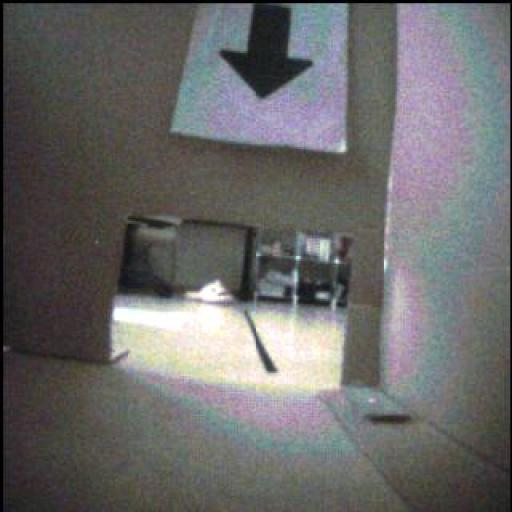arrow: (222, 4, 315, 99)
